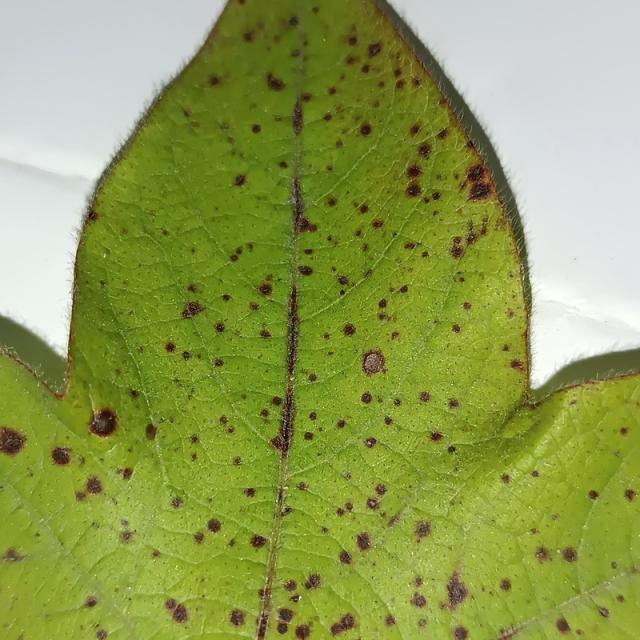Bacterial_Blight: (450, 217, 488, 260), (359, 344, 392, 380), (73, 473, 107, 504), (87, 408, 119, 436), (444, 573, 469, 608), (0, 426, 28, 456), (228, 243, 257, 269), (164, 598, 191, 625), (330, 613, 355, 635), (269, 430, 291, 452), (291, 101, 304, 137), (181, 300, 205, 319), (50, 446, 72, 466), (468, 181, 491, 200), (1, 547, 26, 563), (295, 216, 317, 234), (413, 521, 431, 541), (266, 73, 285, 91), (355, 532, 372, 552), (466, 164, 484, 181), (228, 609, 245, 627), (559, 547, 578, 563), (534, 546, 552, 562), (304, 573, 322, 589), (256, 617, 270, 637), (277, 608, 294, 624), (206, 518, 222, 534), (295, 623, 311, 639), (410, 593, 427, 608), (119, 529, 135, 544), (453, 625, 469, 640), (250, 534, 267, 548), (144, 423, 158, 440), (450, 243, 464, 259), (406, 183, 422, 197), (275, 486, 287, 504), (367, 43, 381, 58), (338, 550, 352, 565), (556, 618, 570, 633), (406, 165, 422, 178), (297, 264, 314, 276), (342, 323, 356, 337), (366, 496, 380, 510), (258, 283, 272, 296), (232, 174, 246, 187), (170, 496, 184, 509), (83, 595, 97, 608), (276, 621, 289, 635), (374, 483, 387, 496), (164, 598, 177, 611), (499, 578, 512, 591), (283, 579, 296, 592), (363, 437, 377, 449), (121, 467, 133, 481), (510, 359, 525, 370), (360, 392, 373, 404), (624, 489, 636, 502), (86, 209, 98, 222), (75, 491, 88, 503), (597, 606, 609, 619), (360, 124, 372, 136), (418, 144, 430, 156), (409, 124, 421, 136), (164, 341, 176, 353), (193, 532, 205, 544), (95, 627, 107, 639), (429, 431, 442, 442), (208, 75, 221, 86), (418, 391, 431, 402), (337, 275, 349, 286), (244, 487, 256, 498), (289, 15, 300, 27), (448, 398, 459, 409), (588, 490, 599, 501), (214, 322, 225, 333), (500, 473, 511, 484), (372, 219, 384, 229), (259, 329, 271, 339), (296, 481, 308, 491), (326, 197, 337, 207), (303, 431, 314, 441), (213, 358, 224, 368), (232, 456, 243, 466), (359, 204, 369, 214), (249, 301, 259, 311), (251, 124, 261, 134), (181, 351, 191, 361), (383, 416, 393, 426), (390, 331, 400, 341), (259, 408, 269, 418), (378, 298, 387, 308), (278, 160, 288, 169), (451, 324, 461, 333), (505, 310, 515, 319), (308, 373, 317, 383), (336, 419, 346, 428), (447, 445, 457, 454), (219, 121, 229, 130), (308, 412, 317, 421), (399, 285, 408, 294), (151, 549, 160, 558), (616, 594, 625, 603), (462, 302, 472, 310), (221, 294, 231, 302), (621, 427, 630, 435), (227, 425, 235, 434), (530, 470, 539, 478), (230, 254, 238, 262), (611, 561, 618, 569)
Cotton: (0, 0, 639, 639)
